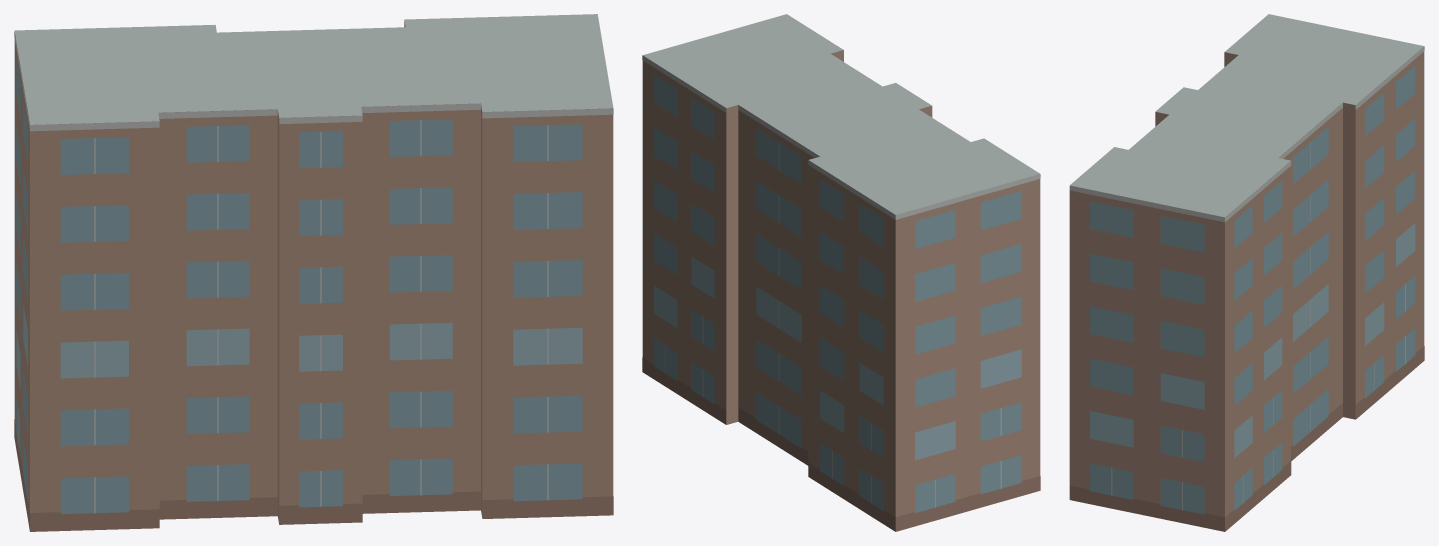
File: survey-upis-32887874.glb
The picture shows the model from 3 angles, left to right: view 1: azimuth 30°, elevation 25°; view 2: azimuth 150°, elevation 25°; view 3: azimuth 270°, elevation 25°; orthographic projection. The views are drawn at different scales.
Visible parts, largest first — view 1: survey-upis-32887874.tmp; view 2: survey-upis-32887874.tmp; view 3: survey-upis-32887874.tmp.
Boxes of the visible parts, x1,y1,x2,y2 form: survey-upis-32887874.tmp: (14,14,613,531); survey-upis-32887874.tmp: (642,14,1040,531); survey-upis-32887874.tmp: (1069,14,1424,531).
Size of the model in its own units: 21.65 by 15.6 by 15.96.
